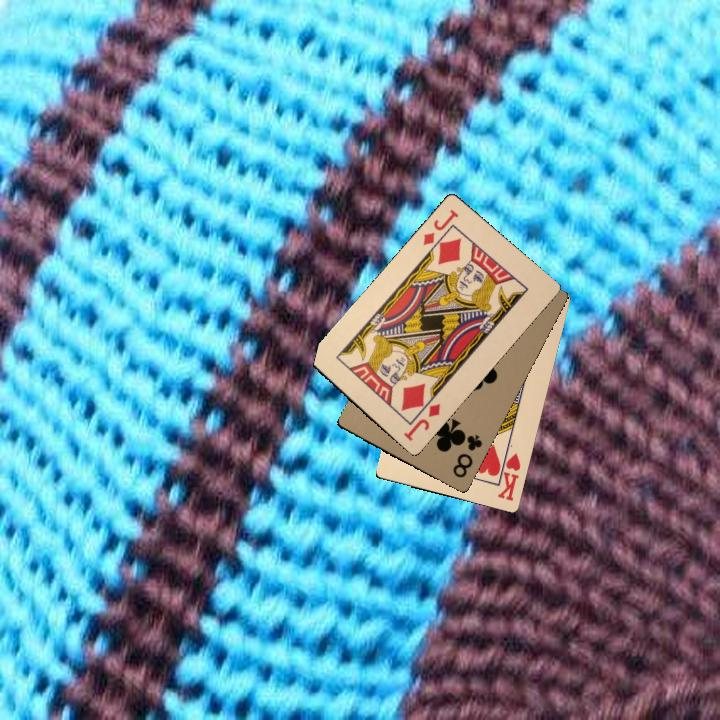8c: (449, 430, 485, 480)
Jd: (400, 399, 443, 443), (419, 205, 461, 248)
Kh: (493, 447, 523, 503)
